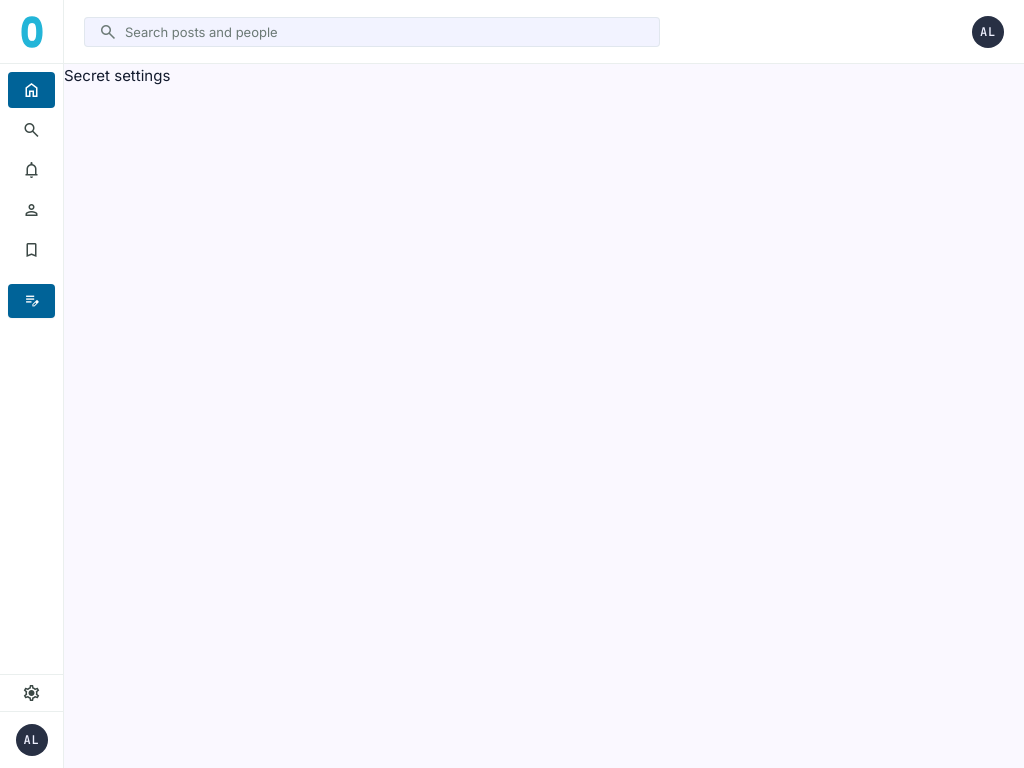
Scenario: (app) layout, the composer (Part 4) › keeps what you typed when the composer is closed and opened again
The image size is (1024, 768).
Click the button named "New post" at (32, 301), box [8,284,55,318]
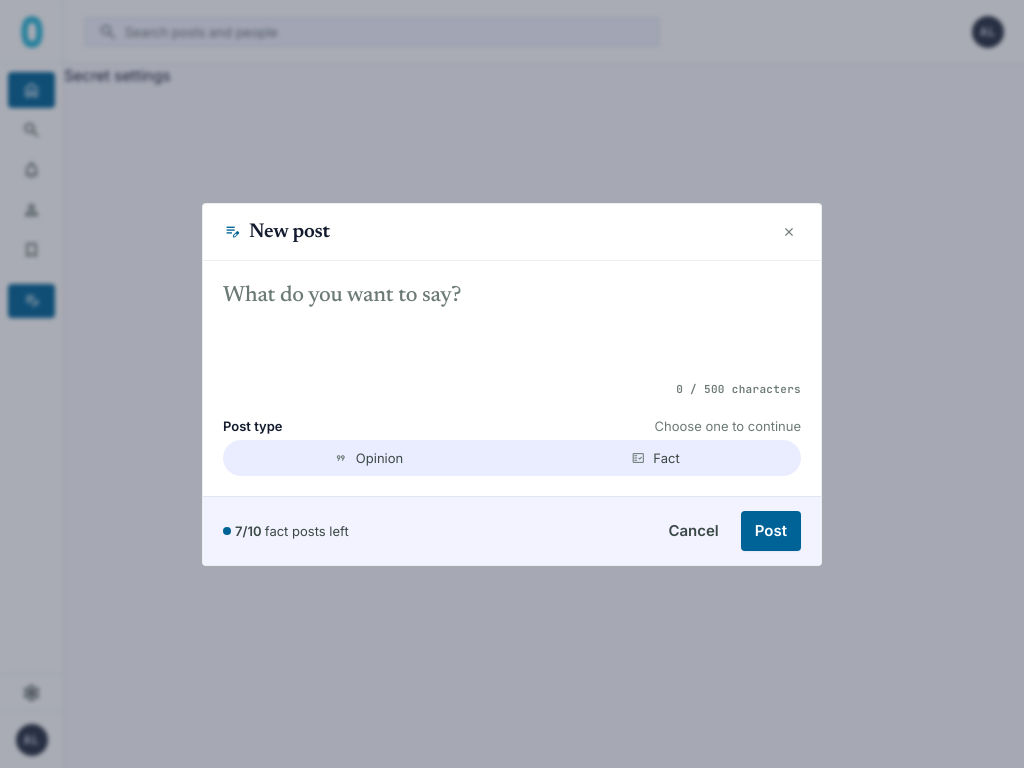
Type "Unfinished" into the text box named "Post text" at (512, 326), box [223,280,801,370]
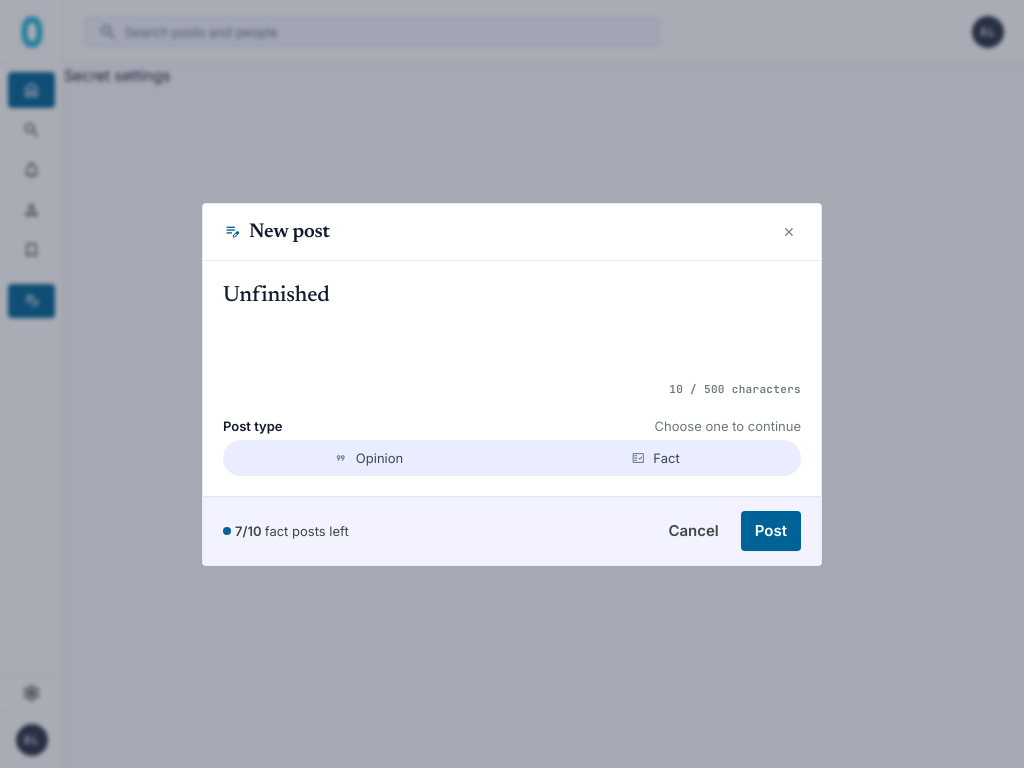
Click the button "Cancel" at (694, 530), box [654,510,733,550]
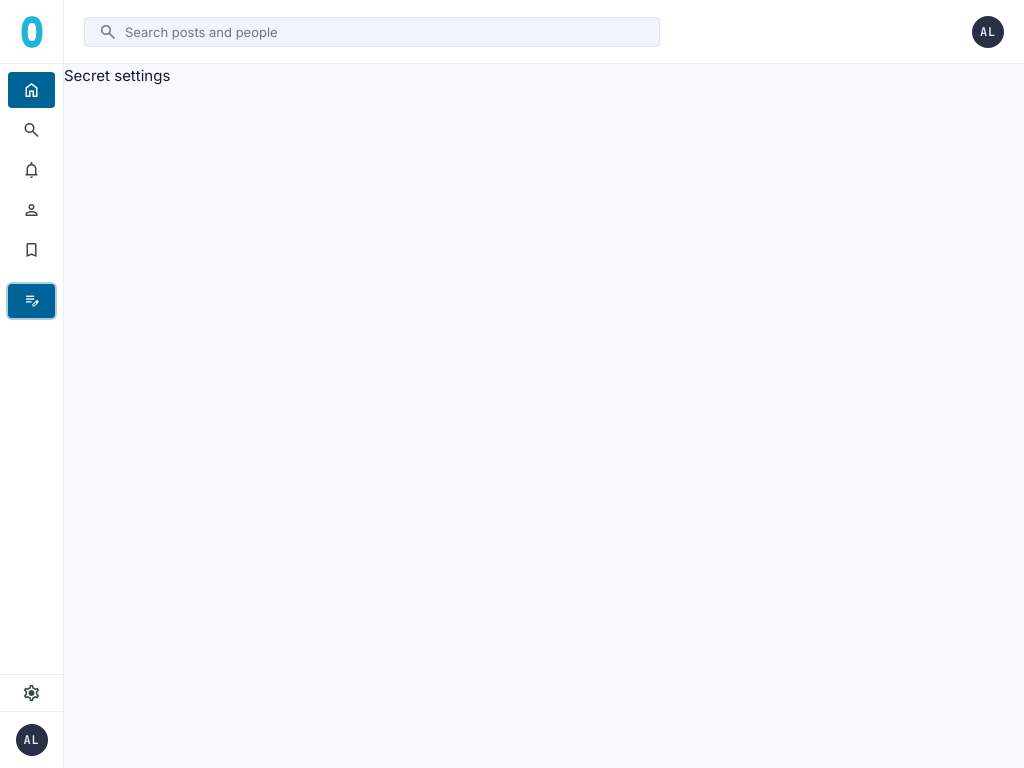
Click the button named "New post" at (32, 301), box [8,284,55,318]
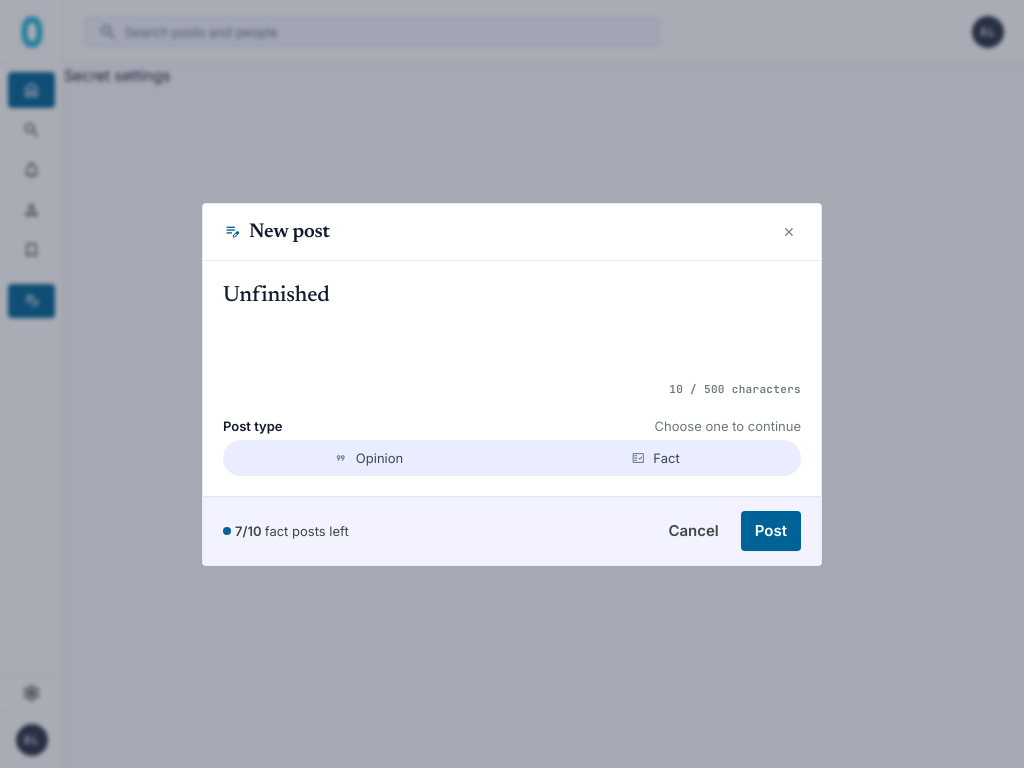
Result: the text box named "Post text" holds "Unfinished" at [223,280,801,370]
